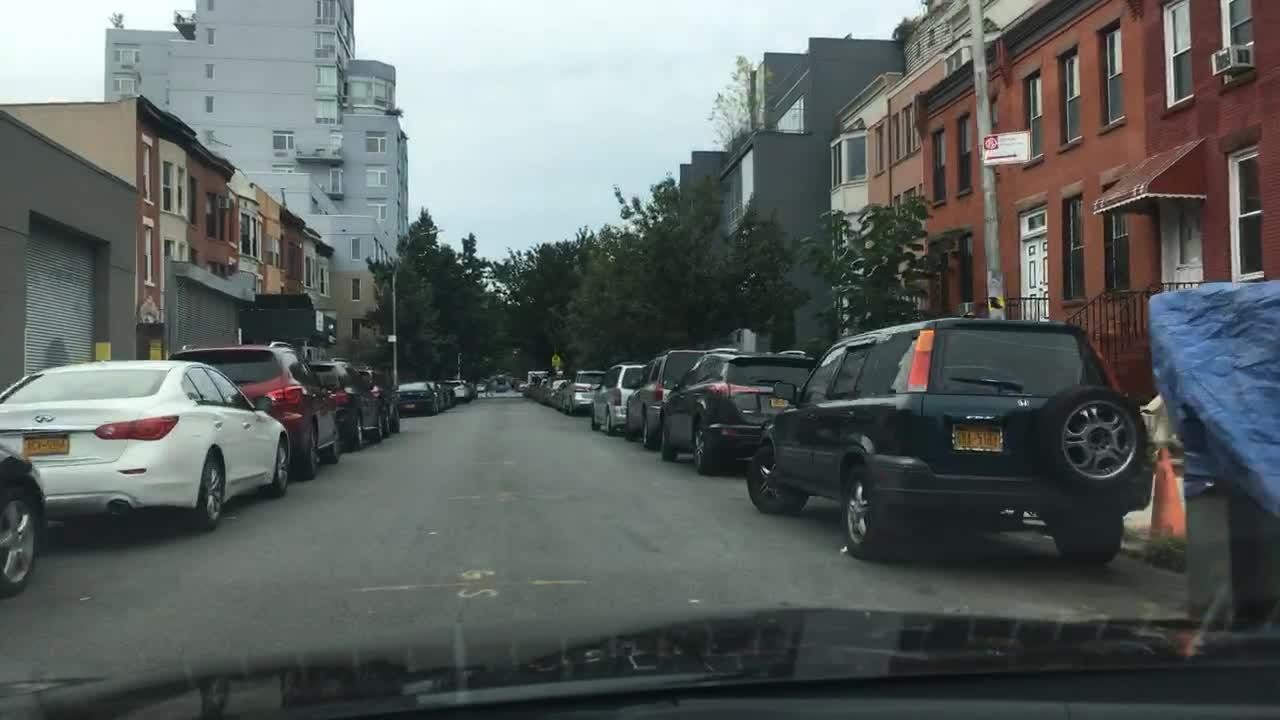Honda: (1014, 393, 1032, 412)
Infiniti: (30, 410, 61, 428)
